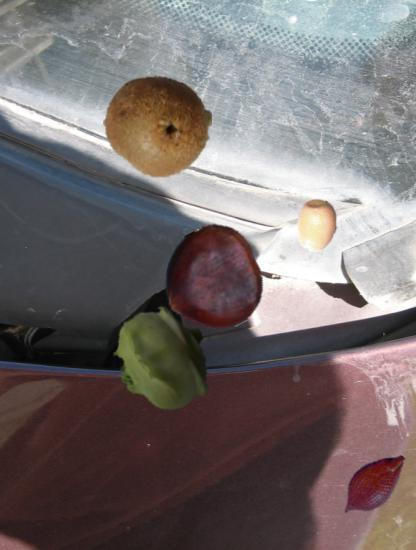Chestnut: (160, 229, 264, 333)
Kiwi: (103, 72, 212, 181)
Kohlrabi: (109, 305, 218, 414)
Kumquats: (290, 199, 343, 252)
Salak: (332, 444, 414, 526)
